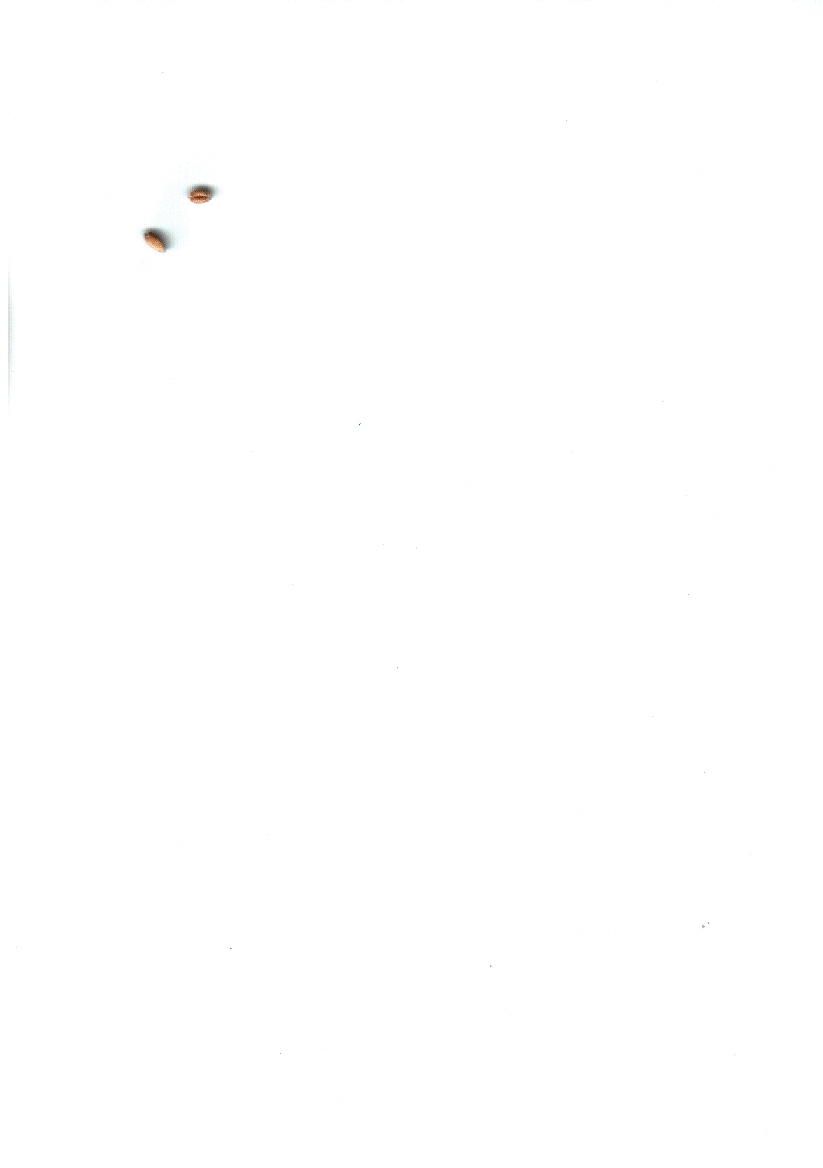grains: (131, 221, 183, 264), (183, 180, 220, 212)
